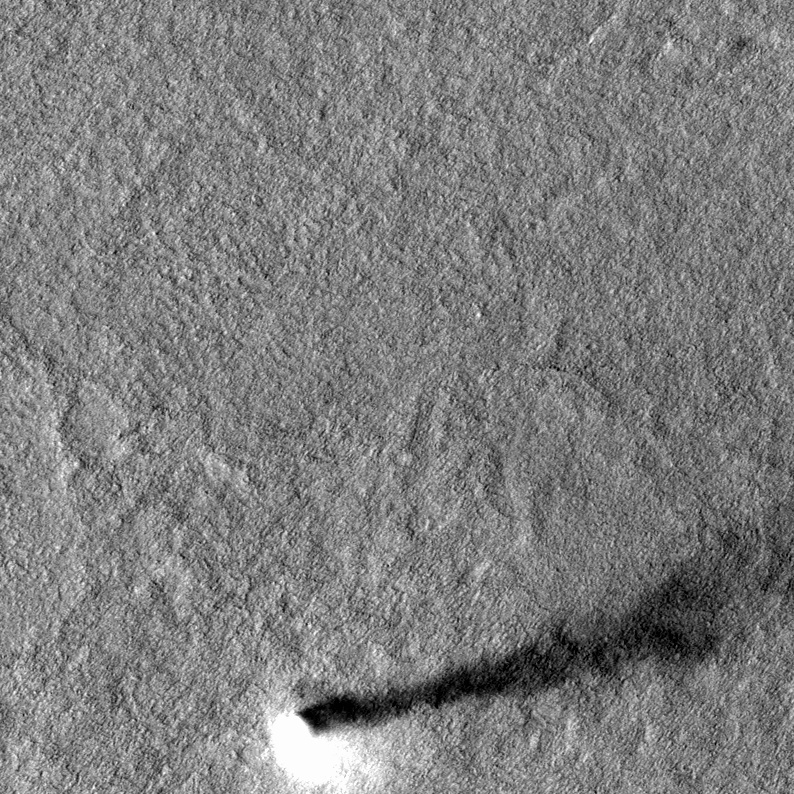dust_devil: (261, 558, 728, 793)
